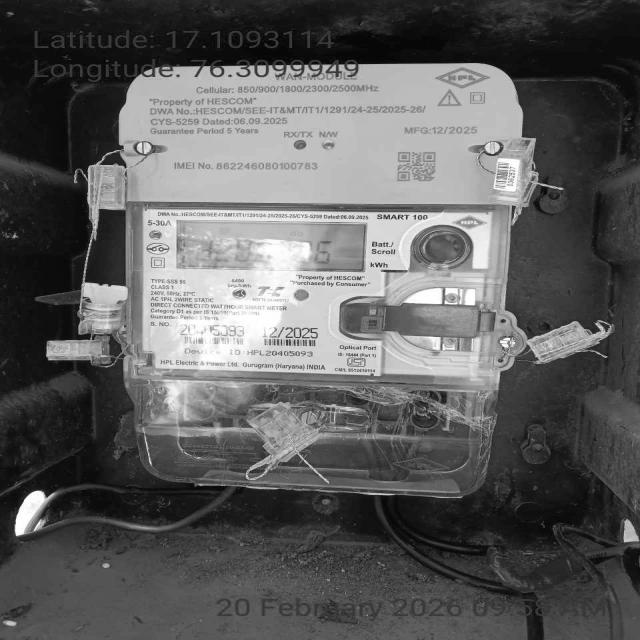meter: (124, 65, 501, 377)
